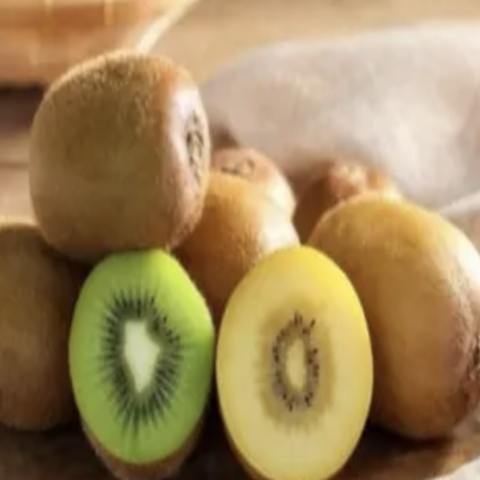kiwi: (294, 153, 479, 477), (15, 43, 225, 254)
